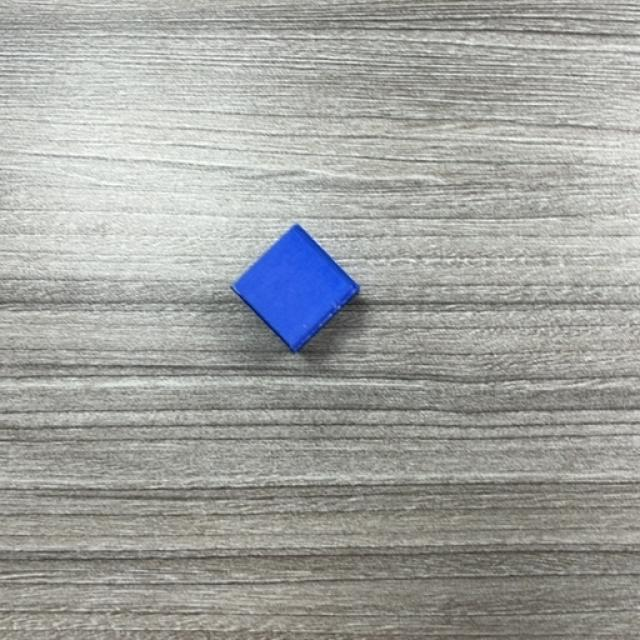Azul: (231, 225, 361, 352)
